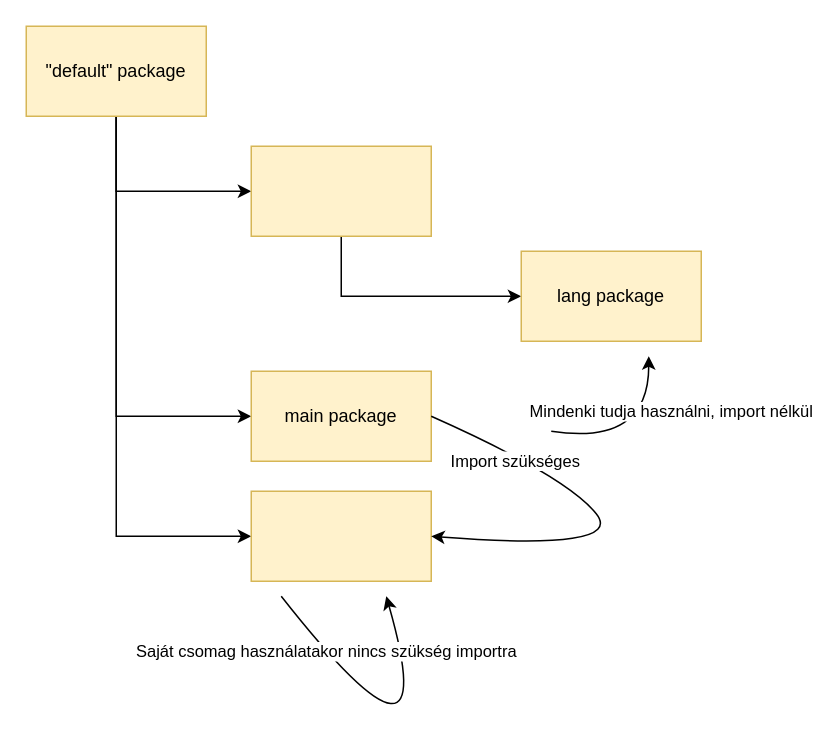
Some shapes in this 839 by 731 pixel diagram are drawn without their labels. The centre of each missing label's shape, as x and y in pixels:
"java package" goes at (340,190).
"trainer package" goes at (340,535).
